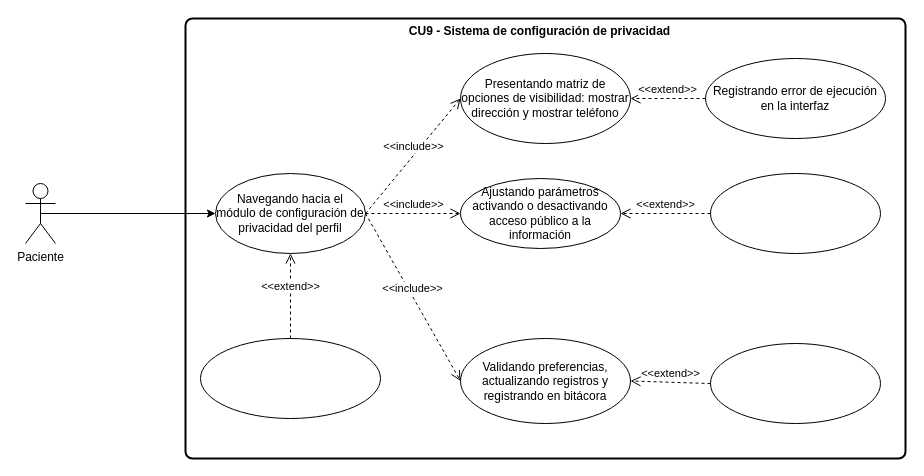
This 924x476 diagram has some shape labels left out. The shapes that lost their labels are listed below. From the top down, each one's box as (x1, y1, x2, y2) in pixels, then its label:
(710, 172, 880, 254): Rechazando valores inválidos
(200, 338, 380, 418): Mostrando error de carga por falla en servidor de aplicaciones
(710, 342, 880, 424): Notificando falla crítica de persistencia y sugiriendo reintento
